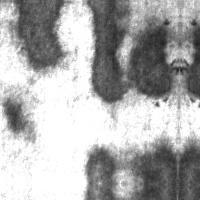patches: (85, 3, 128, 102), (129, 22, 176, 98), (16, 2, 66, 73), (135, 138, 179, 185), (83, 144, 117, 184), (4, 94, 27, 136)
